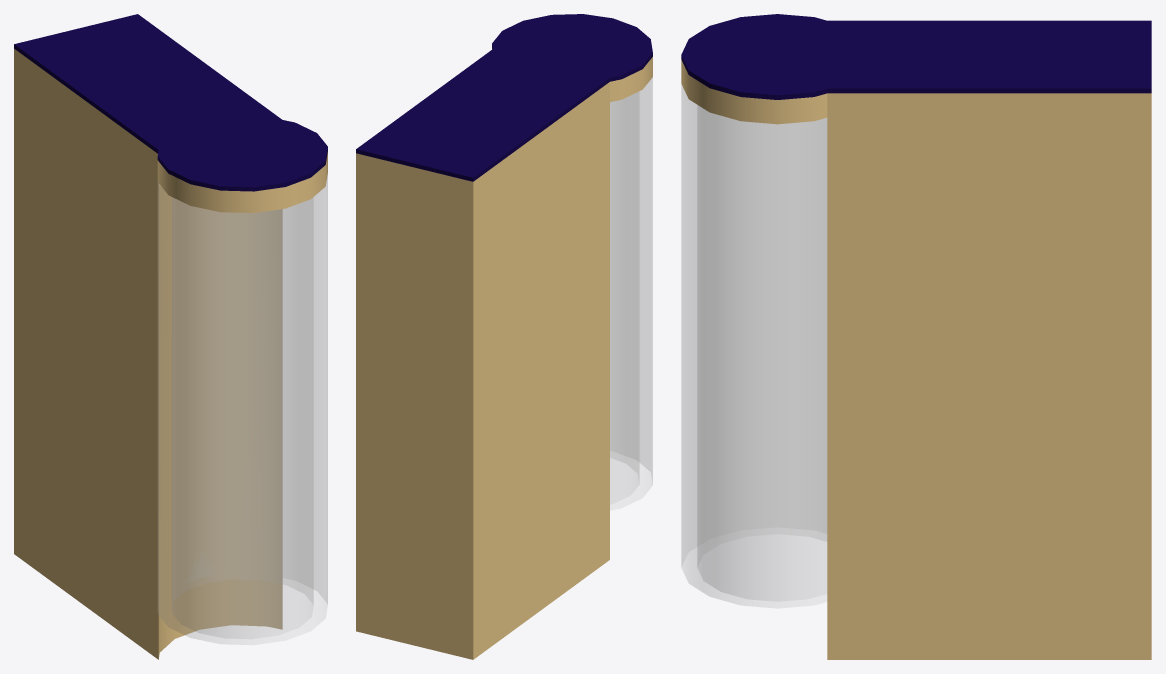
Rendered from mini-stacker.glb.
3 views of the same model, side by side, from view 1: azimuth 30°, elevation 25°; view 2: azimuth 150°, elevation 25°; view 3: azimuth 270°, elevation 25° (orthographic). The views are drawn at different scales.
Parts seen in each view (by area): view 1: arm-protection, support, base, arm-protection-lid; view 2: arm-protection, support, arm-protection-lid, base; view 3: arm-protection, support, arm-protection-lid, base.
Boxes of the visible parts, bbox=[...] form: arm-protection: bbox=[14, 14, 282, 659]; support: bbox=[158, 175, 327, 644]; base: bbox=[157, 115, 327, 212]; arm-protection-lid: bbox=[27, 19, 266, 142]; arm-protection: bbox=[356, 49, 609, 659]; support: bbox=[610, 77, 652, 510]; arm-protection-lid: bbox=[368, 56, 594, 172]; base: bbox=[492, 14, 652, 101]; arm-protection: bbox=[827, 20, 1151, 659]; support: bbox=[681, 84, 827, 608]; arm-protection-lid: bbox=[844, 25, 1140, 83]; base: bbox=[681, 14, 873, 124].
Bounding box in the file's own units: 0.09 × 0.295 × 0.22.
